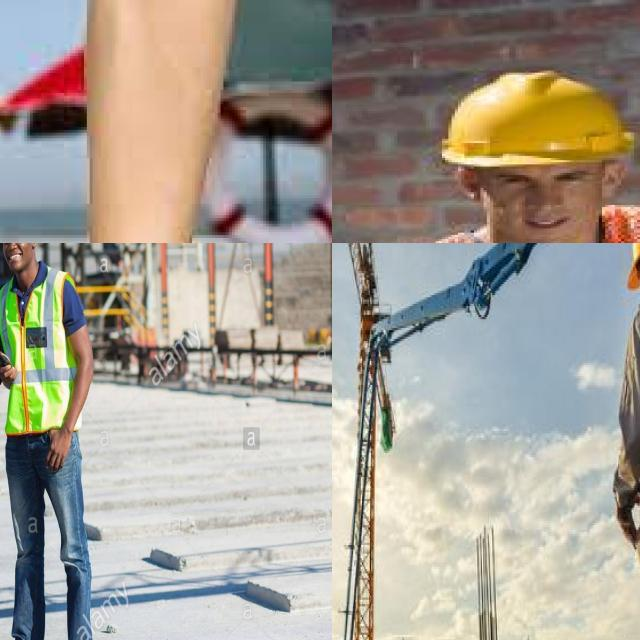No_Ear-Protection: (452, 165, 484, 200), (601, 163, 625, 199)
No_Glasses: (489, 166, 598, 188)
face_nomask: (484, 197, 600, 243), (0, 243, 32, 275)
hand_noglove: (49, 425, 74, 470)
head_helmet: (426, 68, 640, 171)
person: (0, 243, 90, 640)
vest: (0, 269, 79, 431)
